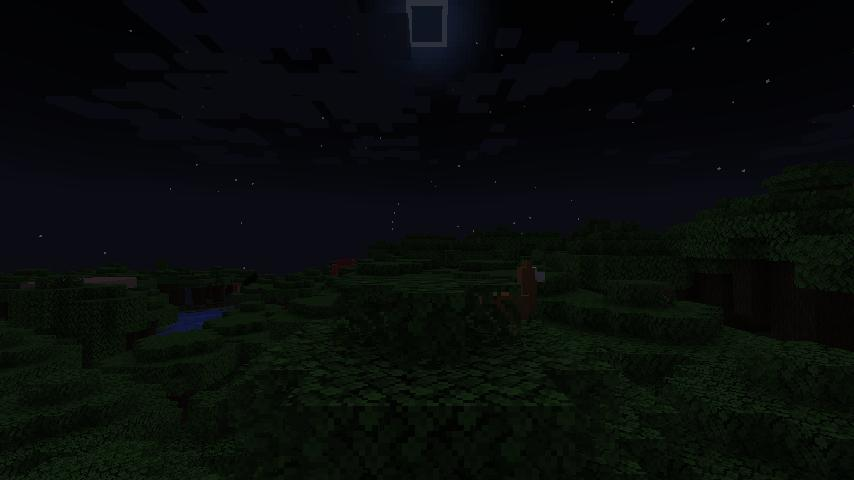llama: (489, 255, 548, 326)
